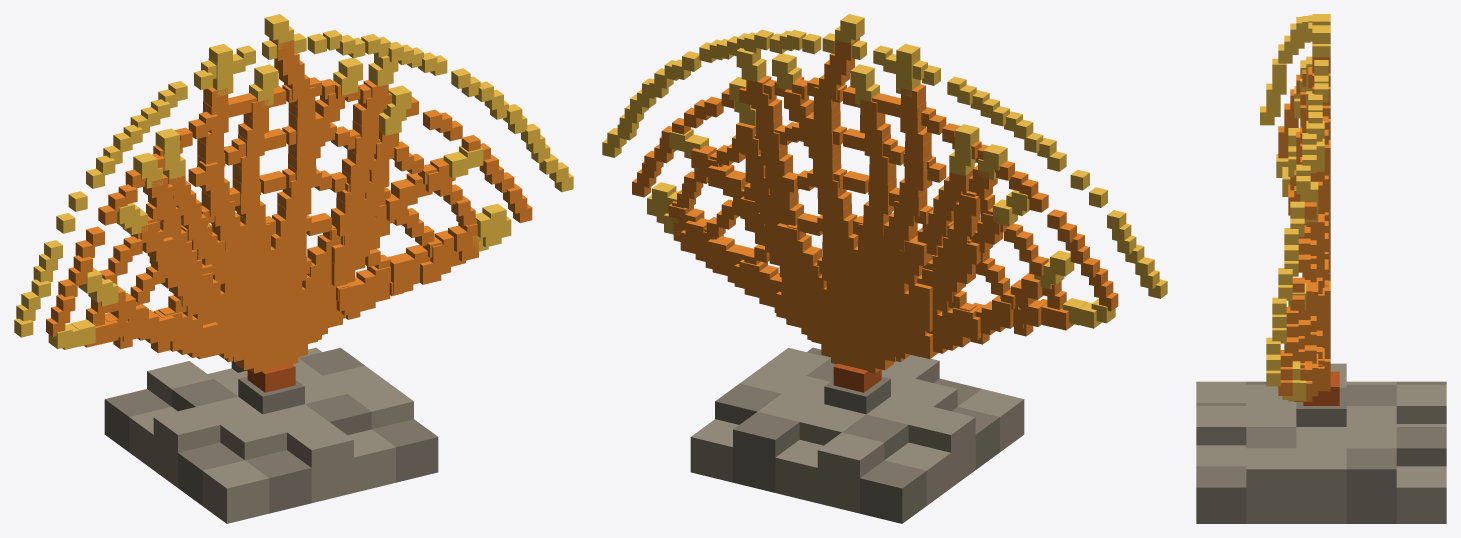
File: CoralSeaFan_Medium.obj
The picture shows the model from 3 angles, left to right: view 1: azimuth 30°, elevation 25°; view 2: azimuth 150°, elevation 25°; view 3: azimuth 270°, elevation 25°; orthographic projection. The views are drawn at different scales.
Parts seen in each view (by area): view 1: CoralSeaFan_Medium; view 2: CoralSeaFan_Medium; view 3: CoralSeaFan_Medium.
Boxes of the visible parts, box(x1,y1,x2,y2) form: CoralSeaFan_Medium: box(14, 14, 573, 523); CoralSeaFan_Medium: box(602, 14, 1167, 523); CoralSeaFan_Medium: box(1196, 14, 1446, 523).
Size of the model in its own units: 3.28 by 2.45 by 1.25.
Materials: 1 (1 with a texture image).
